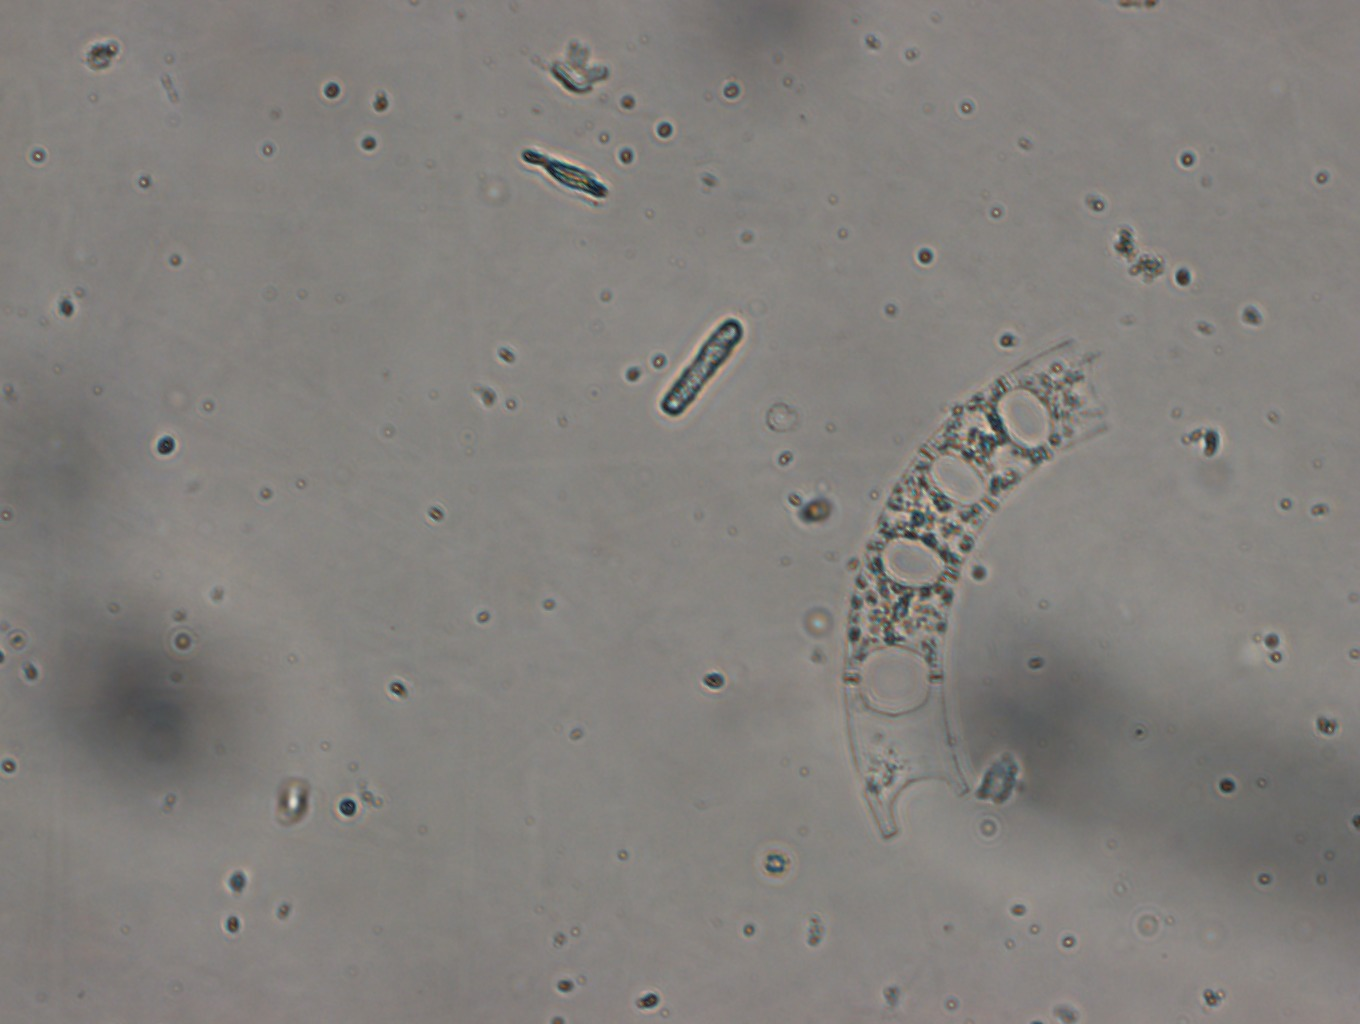eucampia: (828, 328, 1113, 845)
